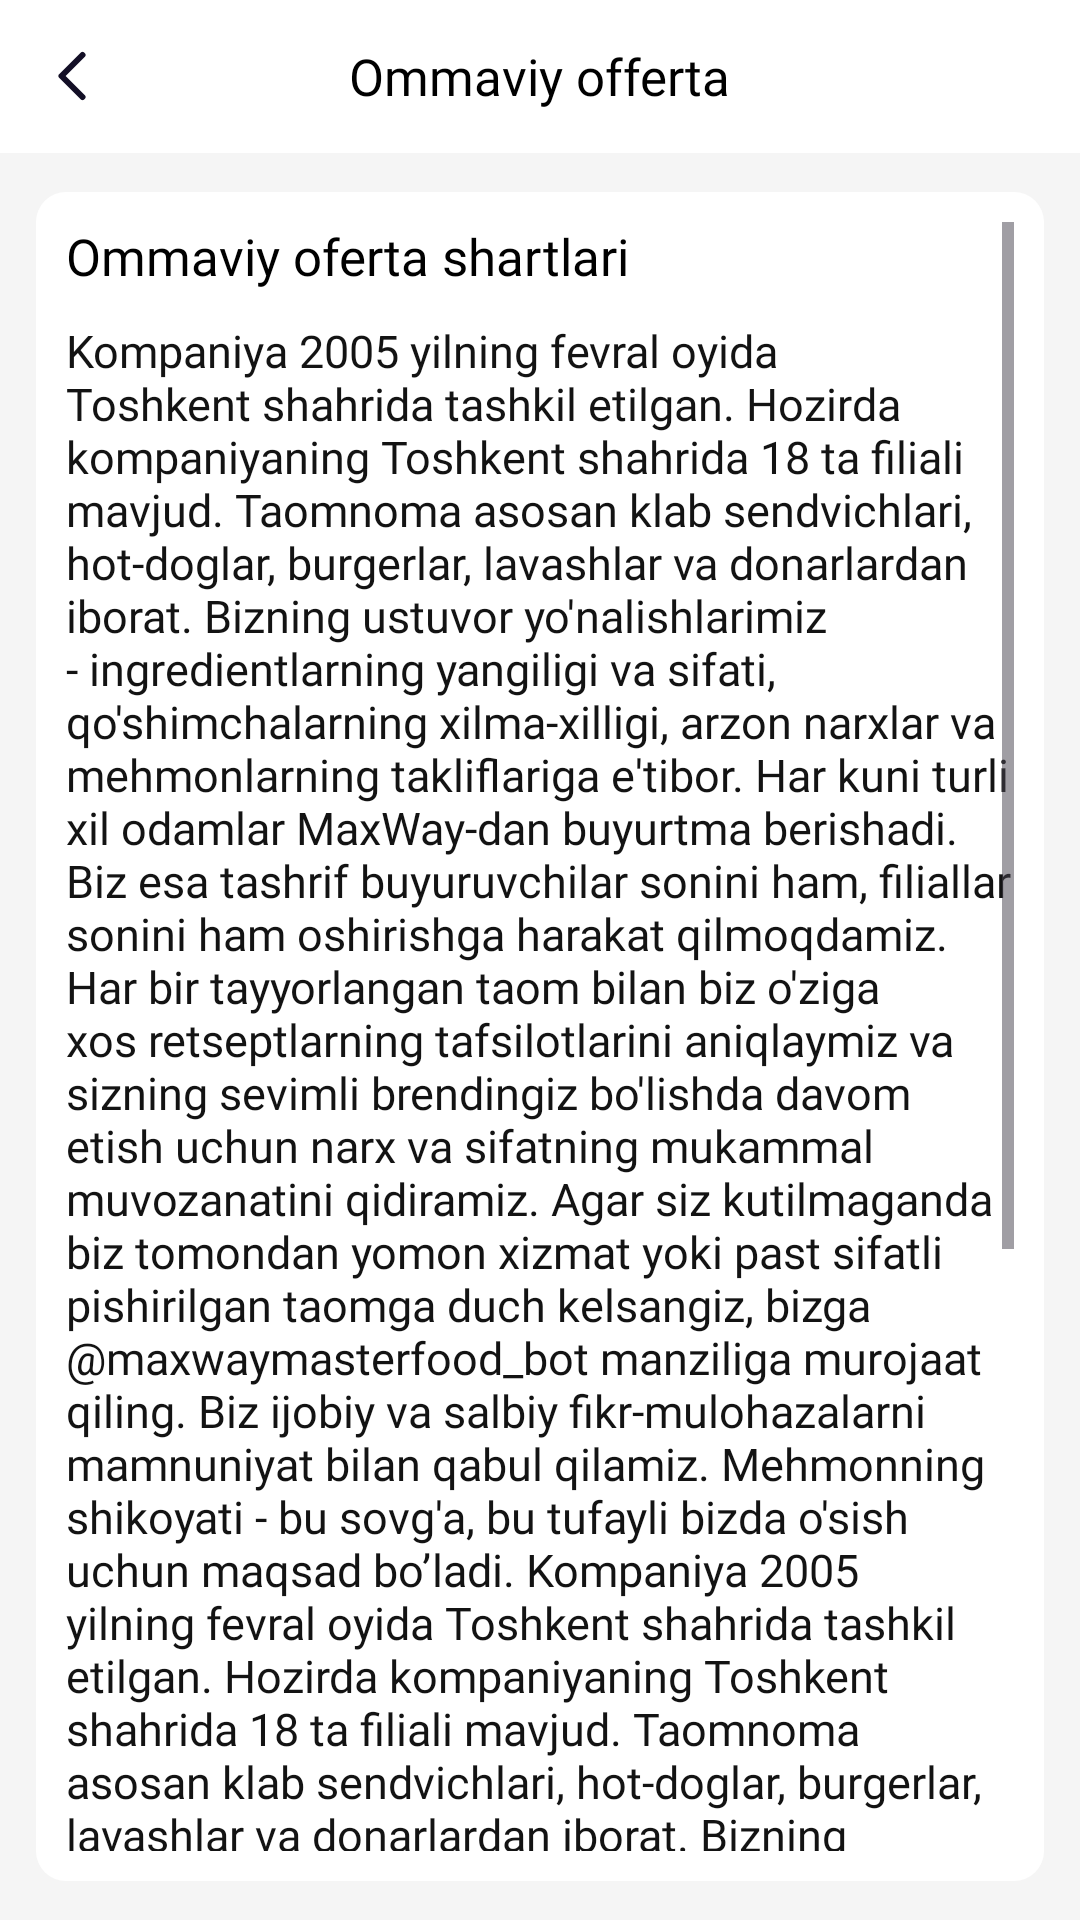

Screen size 1080px x 1920px. Icon name, then its box in pixels as detection(x1, y1, x2, y2):
back: detection(58, 51, 86, 101)
